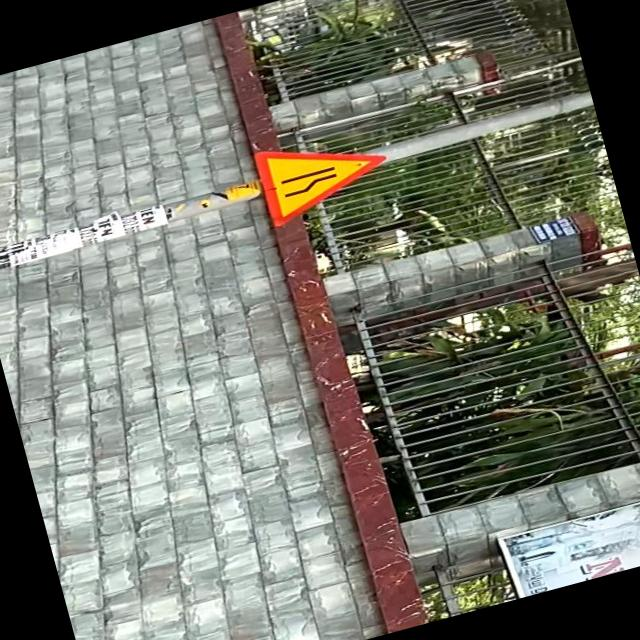W-203c: (254, 117, 396, 225)
